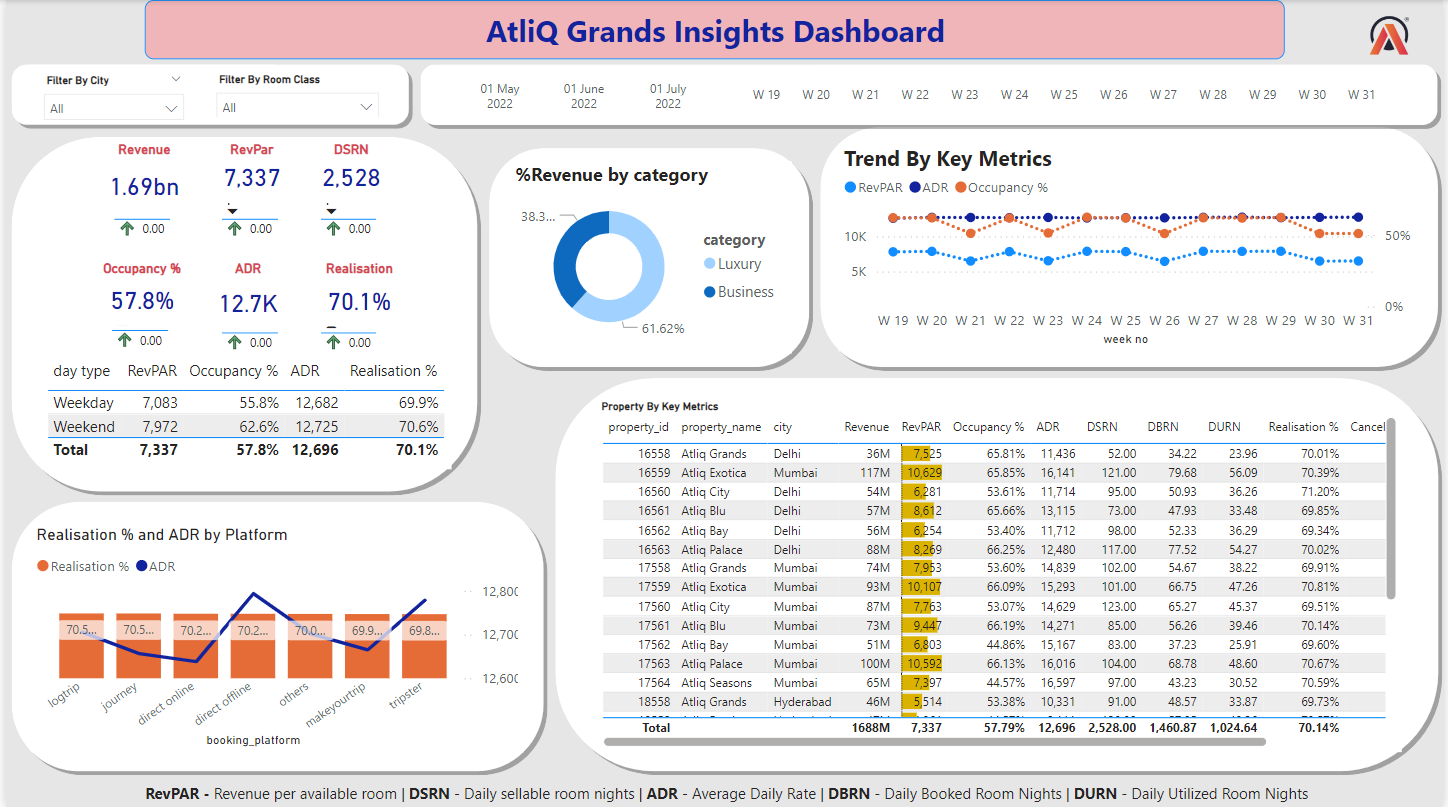

This screenshot's page, from the dashboard's own definition file:
{"tool":"powerbi","page":{"name":"Page 1","canvas":[1280,720],"ordinal":0},"visuals":[{"type":"shape","box":[0,43.8,363.8,63.8],"z":0},{"type":"shape","box":[-0.5,433.3,483.8,250],"z":1000},{"type":"shape","box":[483.3,323.3,796.2,360],"z":2000},{"type":"shape","box":[719.5,99.5,560,223.8],"z":3000},{"type":"shape","box":[424.5,118.3,295,205],"z":4000},{"type":"shape","box":[-0.5,108.1,424.7,325.7],"z":5000},{"type":"shape","box":[363.9,44.1,915.7,63.9],"z":6000},{"type":"tableEx","title":"Property By Key Metrics","fields":{"Values":["dim_hotels.property_id","dim_hotels.property_name","dim_hotels.city","key_measures.Revenue","key_measures.RevPAR","key_measures.Occupancy %","key_measures.ADR","key_measures.DSRN","key_measures.DBRN","key_measures.DURN","key_measures.Realisation %","key_measures.Cancellation %"]},"box":[524.5,347,717.5,313.8],"z":7000},{"type":"slicer","fields":{"Values":["dim_hotels.city"]},"box":[22.5,52.5,145,47.5],"z":8000},{"type":"slicer","fields":{"Values":["dim_rooms.room_class"]},"box":[176.2,51.2,165,43.8],"z":9000},{"type":"slicer","fields":{"Values":["dim_date.mmm yy"]},"box":[377.1,51.4,272.7,48.3],"z":10000},{"type":"slicer","fields":{"Values":["dim_date.week no"]},"box":[629.3,48.9,622.5,53.1],"z":11000},{"type":"donutChart","title":"%Revenue by category","fields":{"Category":["dim_hotels.category"],"Y":["key_measures.Revenue"]},"box":[448.3,134.5,251.2,171.2],"z":12000},{"type":"lineChart","title":"Trend By Key Metrics","fields":{"Y2":["key_measures.Occupancy %"],"Y":["key_measures.RevPAR","key_measures.ADR"],"Category":["dim_date.mmm yy.Variation.Date Hierarchy.Month","dim_date.week no"]},"box":[740.8,119.5,515,185],"z":13000},{"type":"lineStackedColumnComboChart","title":"Realisation % and ADR by Platform","fields":{"Category":["fact_bookings.booking_platform"],"Y":["key_measures.Realisation %"],"Y2":["key_measures.ADR"]},"box":[22,458.3,438.8,202.5],"z":14000},{"type":"tableEx","fields":{"Values":["dim_date.day type","key_measures.RevPAR","key_measures.Occupancy %","key_measures.ADR","key_measures.Realisation %"]},"box":[30.9,304.7,365.6,103.8],"z":15000},{"type":"tableEx","title":".","fields":{"Values":["key_measures.Revpar WoW change %"]},"box":[89.3,152.3,67,61.7],"z":16000},{"type":"card","title":"Revenue","fields":{"Values":["key_measures.Revenue"]},"box":[68.3,117.1,108.5,66],"z":17000},{"type":"tableEx","title":".","fields":{"Values":["key_measures.Revpar WoW change %"]},"box":[87.2,252.3,67,61.7],"z":18000},{"type":"tableEx","title":".","fields":{"Values":["key_measures.Revpar WoW change %"]},"box":[185.3,152.3,67,61.7],"z":19000},{"type":"tableEx","title":".","fields":{"Values":["key_measures.Revpar WoW change %"]},"box":[273.6,152.3,67,61.7],"z":20000},{"type":"tableEx","title":".","fields":{"Values":["key_measures.Revpar WoW change %"]},"box":[185.3,254.4,67,61.7],"z":21000},{"type":"tableEx","title":".","fields":{"Values":["key_measures.Revpar WoW change %"]},"box":[273.2,254.4,75.8,61.1],"z":22000},{"type":"card","title":"RevPar","fields":{"Values":["key_measures.RevPAR"]},"box":[172.5,116.8,93.1,50.8],"z":23000},{"type":"card","title":"DSRN","fields":{"Values":["key_measures.DSRN"]},"box":[265.6,116.8,83.1,50.8],"z":24000},{"type":"card","title":"Occupancy %","fields":{"Values":["key_measures.Occupancy %"]},"box":[69.7,222.5,102.1,58.5],"z":25000},{"type":"card","title":"ADR","fields":{"Values":["key_measures.ADR"]},"box":[168.1,222.6,95,63],"z":26000},{"type":"card","title":"Realisation","fields":{"Values":["key_measures.Realisation %"]},"box":[273.6,222.5,81.9,59.6],"z":27000},{"type":"image","box":[1163.5,-0.8,88.8,45],"z":28000},{"type":"textbox","box":[0,683.8,1280,27.5],"z":29000},{"type":"textbox","box":[100.1,0,1081,44.6],"z":29001}]}

Visuals, with their boxes in screenshot pixels (x1, y1, x2, y2), scaled from the page's 1280x720 canvas onto the 1448x807 screenshot:
shape: select_region(0, 49, 412, 121)
shape: select_region(0, 486, 547, 766)
shape: select_region(547, 362, 1447, 766)
shape: select_region(814, 112, 1447, 362)
shape: select_region(480, 133, 814, 362)
shape: select_region(0, 121, 480, 486)
shape: select_region(412, 49, 1447, 121)
"Property By Key Metrics" tableEx: select_region(593, 389, 1405, 741)
slicer - dim_hotels.city: select_region(25, 59, 189, 112)
slicer - dim_rooms.room_class: select_region(199, 57, 386, 106)
slicer - dim_date.mmm yy: select_region(427, 58, 735, 112)
slicer - dim_date.week no: select_region(712, 55, 1416, 114)
"%Revenue by category" donutChart: select_region(507, 151, 791, 343)
"Trend By Key Metrics" lineChart: select_region(838, 134, 1421, 341)
"Realisation % and ADR by Platform" lineStackedColumnComboChart: select_region(25, 514, 521, 741)
tableEx - dim_date.day type x key_measures.RevPAR: select_region(35, 342, 449, 458)
"." tableEx: select_region(101, 171, 177, 240)
"Revenue" card: select_region(77, 131, 200, 205)
"." tableEx: select_region(99, 283, 174, 352)
"." tableEx: select_region(210, 171, 285, 240)
"." tableEx: select_region(310, 171, 385, 240)
"." tableEx: select_region(210, 285, 285, 354)
"." tableEx: select_region(309, 285, 395, 354)
"RevPar" card: select_region(195, 131, 300, 188)
"DSRN" card: select_region(300, 131, 394, 188)
"Occupancy %" card: select_region(79, 249, 194, 315)
"ADR" card: select_region(190, 249, 298, 320)
"Realisation" card: select_region(310, 249, 402, 316)
image: select_region(1316, 0, 1417, 50)
textbox: select_region(0, 766, 1447, 797)
textbox: select_region(113, 0, 1336, 50)
